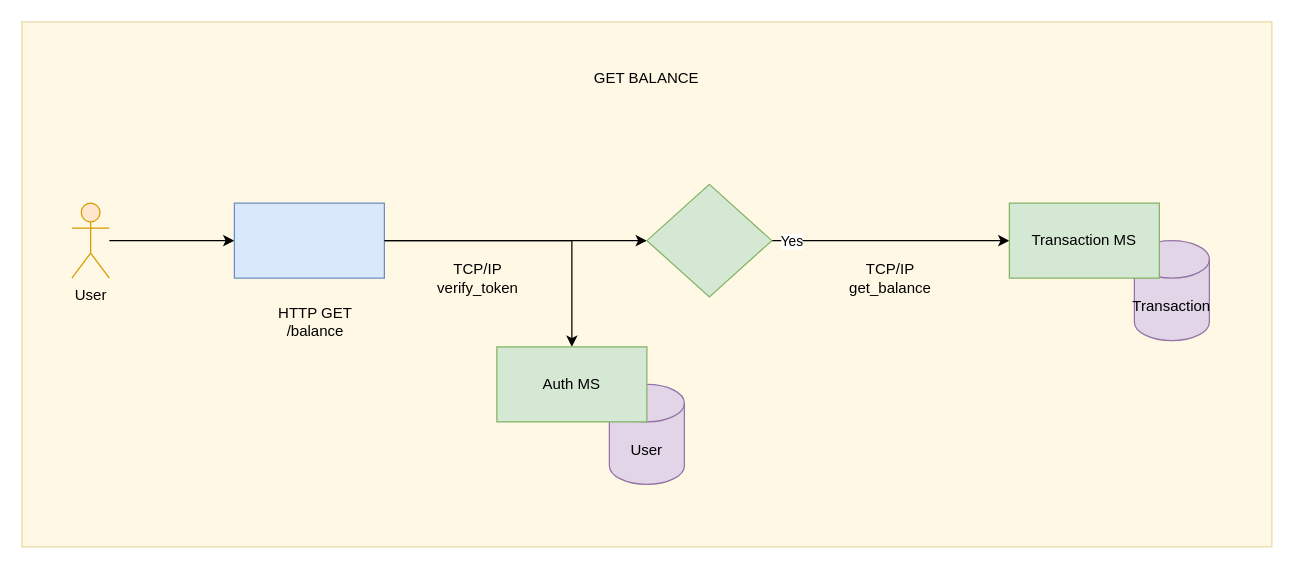
Some shapes in this 1294 by 569 pixel diagram are drawn without their labels. The centre of each missing label's shape, as x and y in pixels:
API Gateway: [308,240]
isAuthenticated: [709,240]
